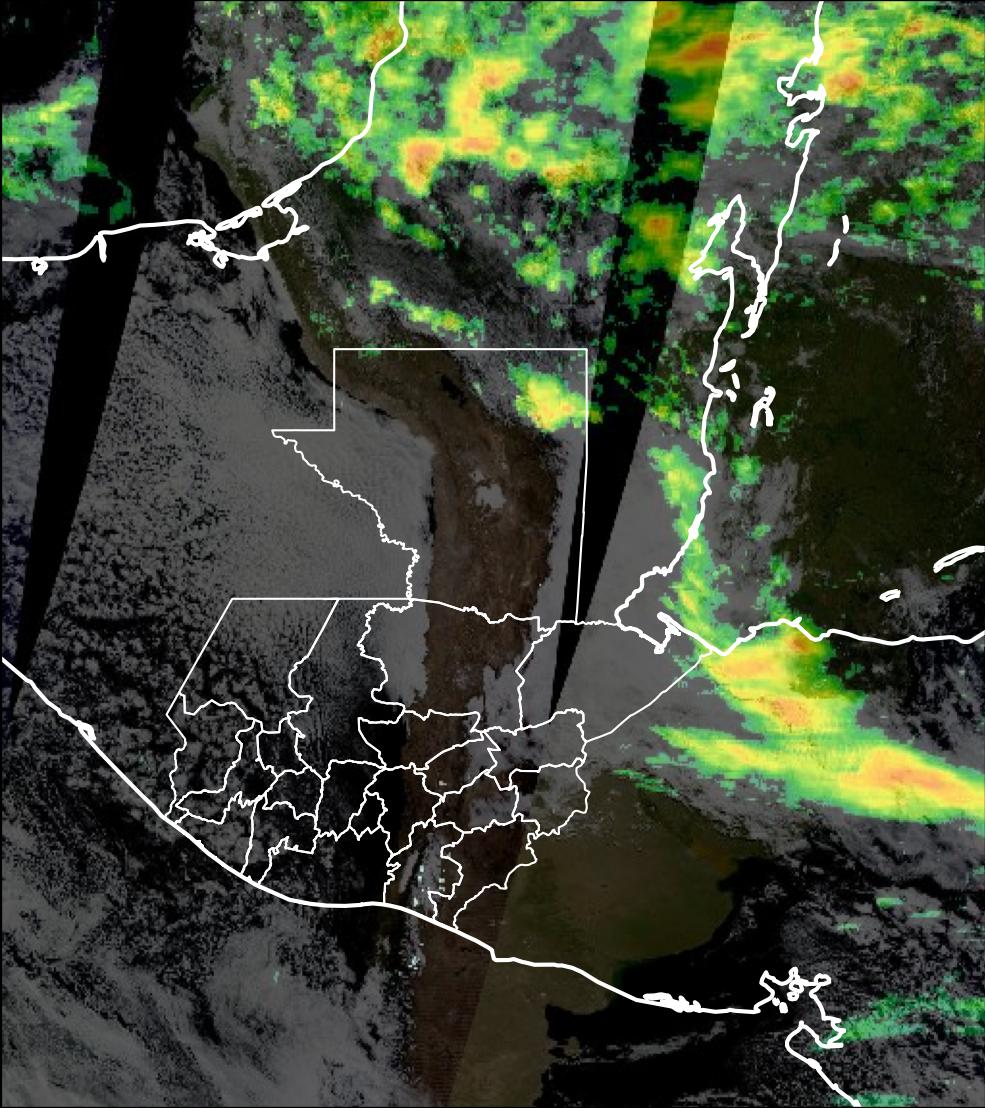precipitacion: (386, 59, 529, 202), (638, 6, 780, 84)
